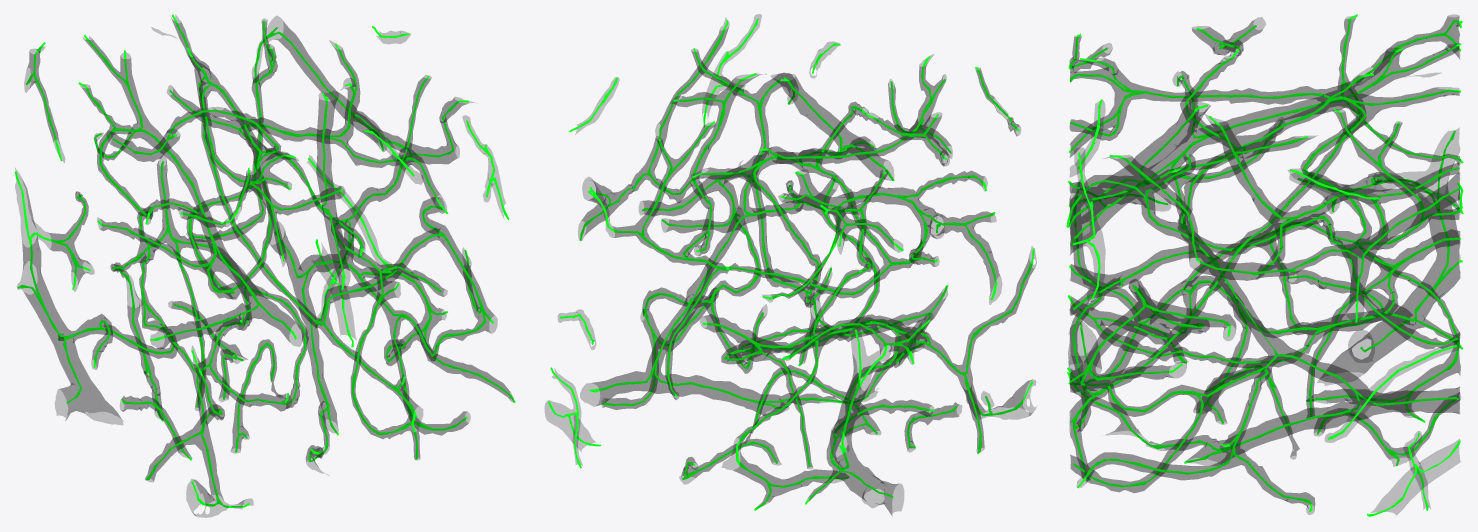
The model's file is ground_centerline.glb.
3 views of the same model, side by side, from view 1: azimuth 30°, elevation 25°; view 2: azimuth 150°, elevation 25°; view 3: azimuth 270°, elevation 25° (orthographic). The views are drawn at different scales.
Visible parts, largest first — view 1: Volume-Transparent, Ground; view 2: Volume-Transparent, Ground; view 3: Volume-Transparent, Ground.
Boxes of the visible parts, box(x1,y1,x2,y2) form: Volume-Transparent: box(15, 16, 513, 517); Ground: box(14, 14, 515, 507); Volume-Transparent: box(545, 14, 1036, 515); Ground: box(548, 18, 1034, 510); Volume-Transparent: box(1068, 14, 1460, 515); Ground: box(1066, 14, 1463, 516).
Bounding box in the file's own units: 50.16 × 50.06 × 50.09.
